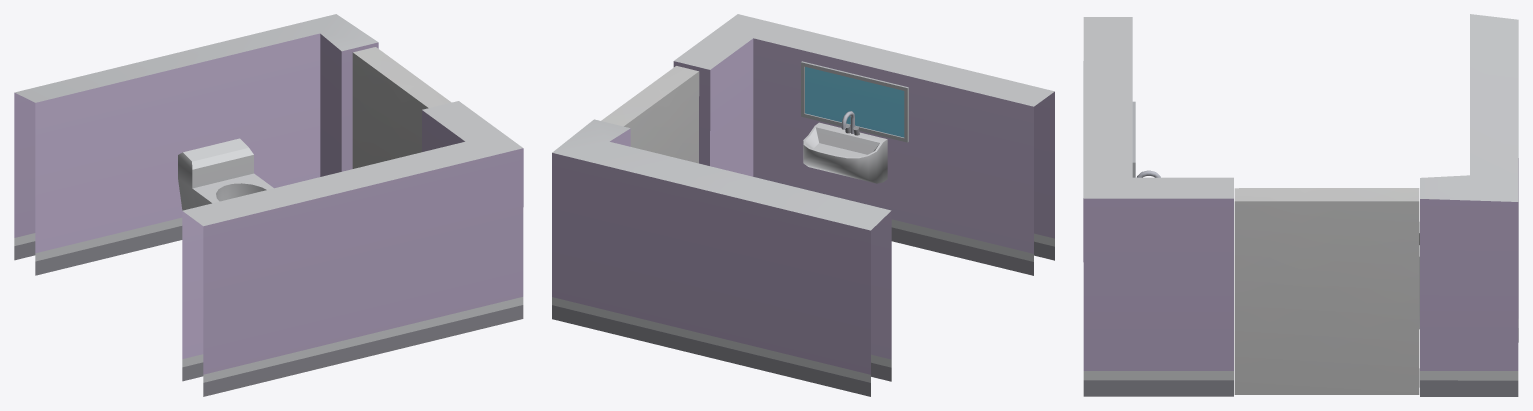
The model's file is Airplane_2_WS.FBX.
The picture shows the model from 3 angles, left to right: view 1: azimuth 30°, elevation 25°; view 2: azimuth 150°, elevation 25°; view 3: azimuth 270°, elevation 25°; orthographic projection. The views are drawn at different scales.
Visible parts, largest first — view 1: Airplane_2_WS, WS_Door; view 2: Airplane_2_WS, WS_Door; view 3: Airplane_2_WS, WS_Door.
Boxes of the visible parts, x1,y1,x2,y2 form: Airplane_2_WS: (14, 14, 523, 396); WS_Door: (352, 47, 451, 168); Airplane_2_WS: (552, 14, 1054, 396); WS_Door: (601, 66, 699, 163); Airplane_2_WS: (1083, 14, 1518, 396); WS_Door: (1234, 188, 1419, 394).
Size of the model in its own units: 82.49 by 42.94 by 83.19.
Materials: 1 (1 with a texture image).
